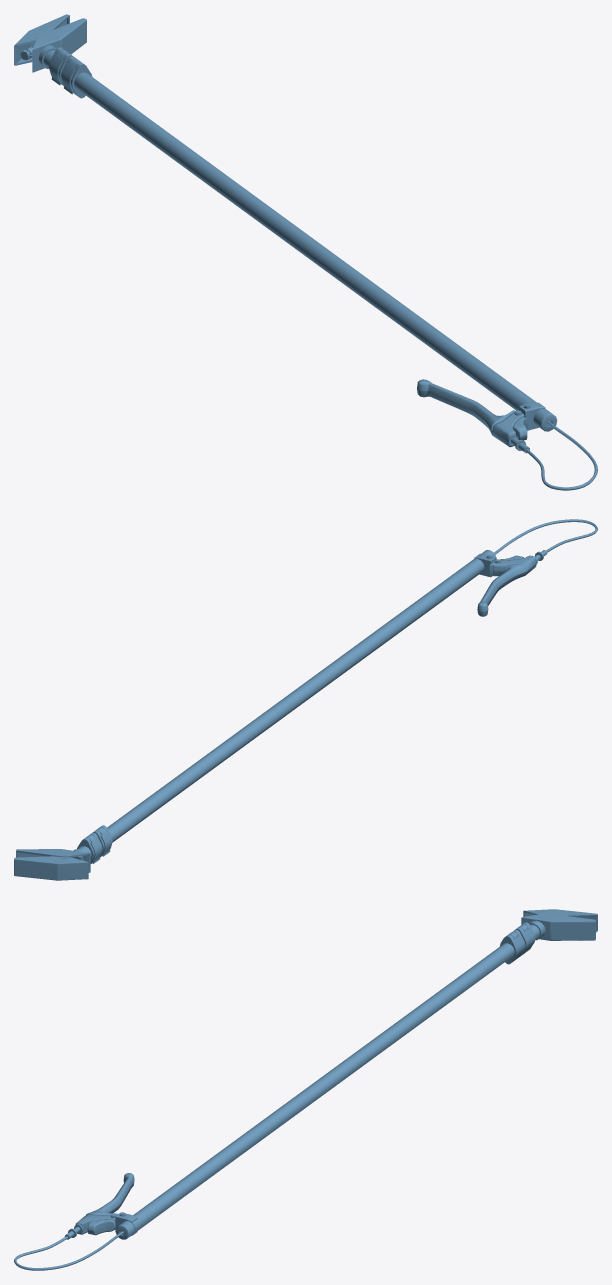
File: FHXY_02BX_A23_JiaZi_MD_L.fbx
3 renders of one model, top to bottom at view 1: azimuth 30°, elevation 25°; view 2: azimuth 150°, elevation 25°; view 3: azimuth 330°, elevation 25°, orthographic. The views are drawn at different scales.
Parts seen in each view (by area): view 1: FHXY_02BX_A23_JiaZi_MD_L01; view 2: FHXY_02BX_A23_JiaZi_MD_L01; view 3: FHXY_02BX_A23_JiaZi_MD_L01.
Boxes of the visible parts, bbox=[...] form: FHXY_02BX_A23_JiaZi_MD_L01: bbox=[14, 14, 597, 490]; FHXY_02BX_A23_JiaZi_MD_L01: bbox=[14, 519, 597, 880]; FHXY_02BX_A23_JiaZi_MD_L01: bbox=[14, 909, 597, 1270].
Size of the model in its own units: 15.31 by 4.08 by 132.
